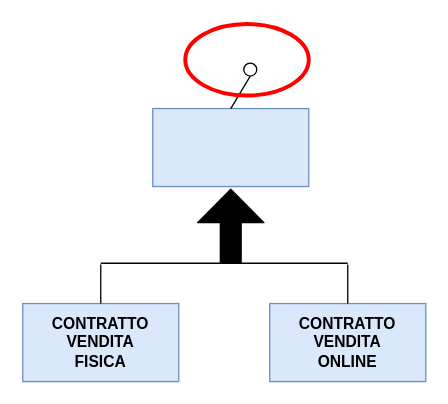
Image size: 448x404. Some labels were removed from this diagram. Here are the shapes that lost their labels. From the top down, the centre of each, then its label:
At [246,59]: "Importo".
At [230,147]: "CONTRATTO VENDITA".
